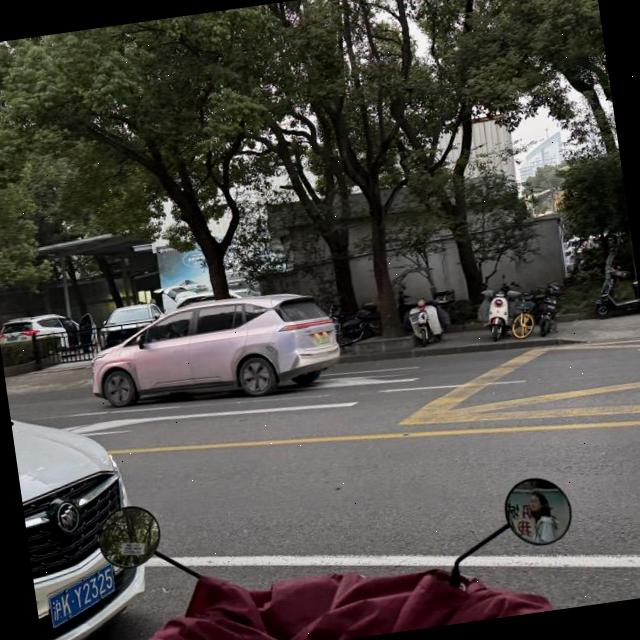curb: (342, 337, 586, 364)
